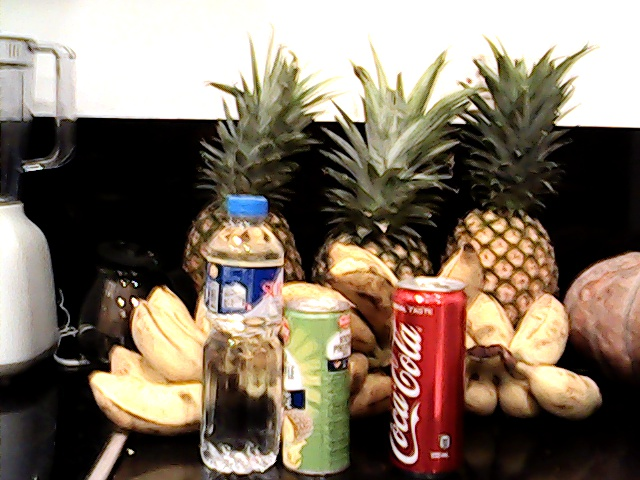Cola: (381, 269, 468, 480)
Pine Juice: (282, 299, 360, 477)
Summit Water: (194, 186, 288, 477)
